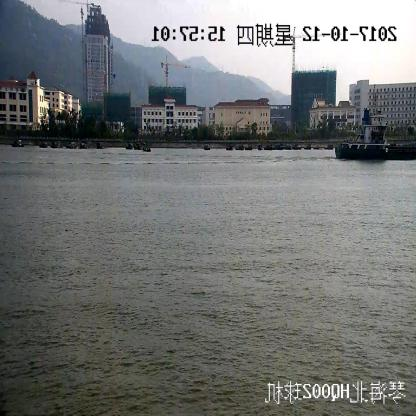Bulk Carrier: (335, 112, 415, 160)
